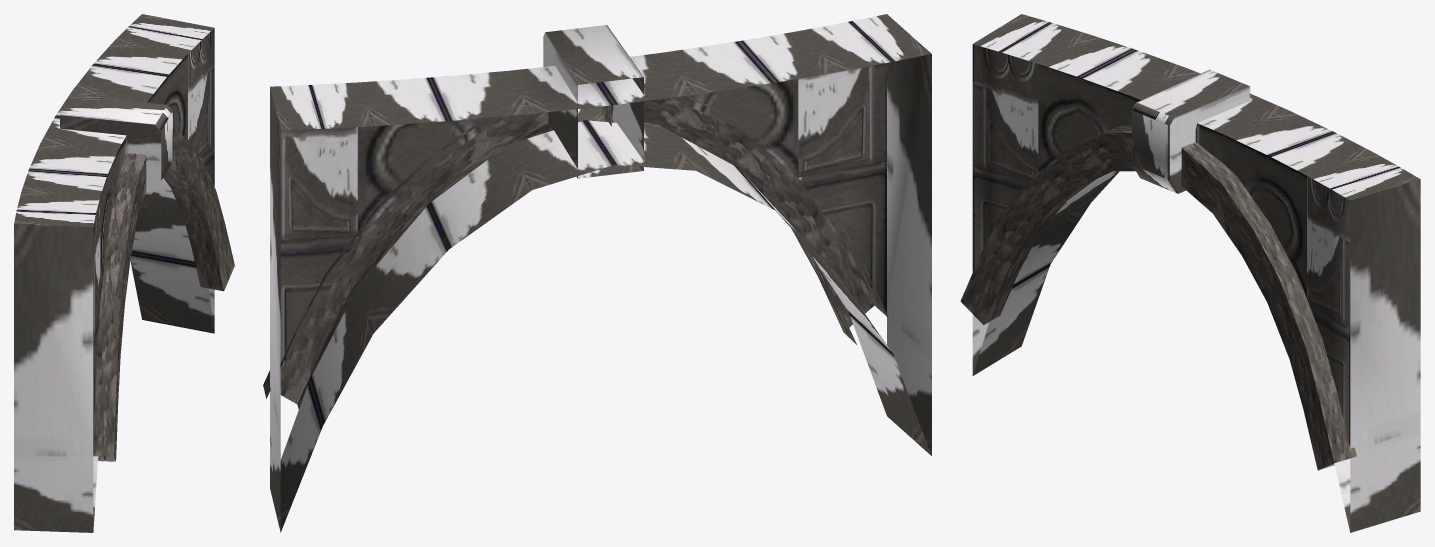
File: CH09_SMAUG_PLAYSURFACE_LAIR38.obj
The picture shows the model from 3 angles, left to right: view 1: azimuth 30°, elevation 25°; view 2: azimuth 150°, elevation 25°; view 3: azimuth 270°, elevation 25°; orthographic projection. The views are drawn at different scales.
Parts seen in each view (by area): view 1: lair38; view 2: lair38; view 3: lair38.
Part boxes in pixels (x1,y1,x2,y2): lair38: (14, 14, 234, 532); lair38: (263, 14, 931, 532); lair38: (960, 14, 1420, 532).
Size of the model in its own units: 953 by 797 by 958.
